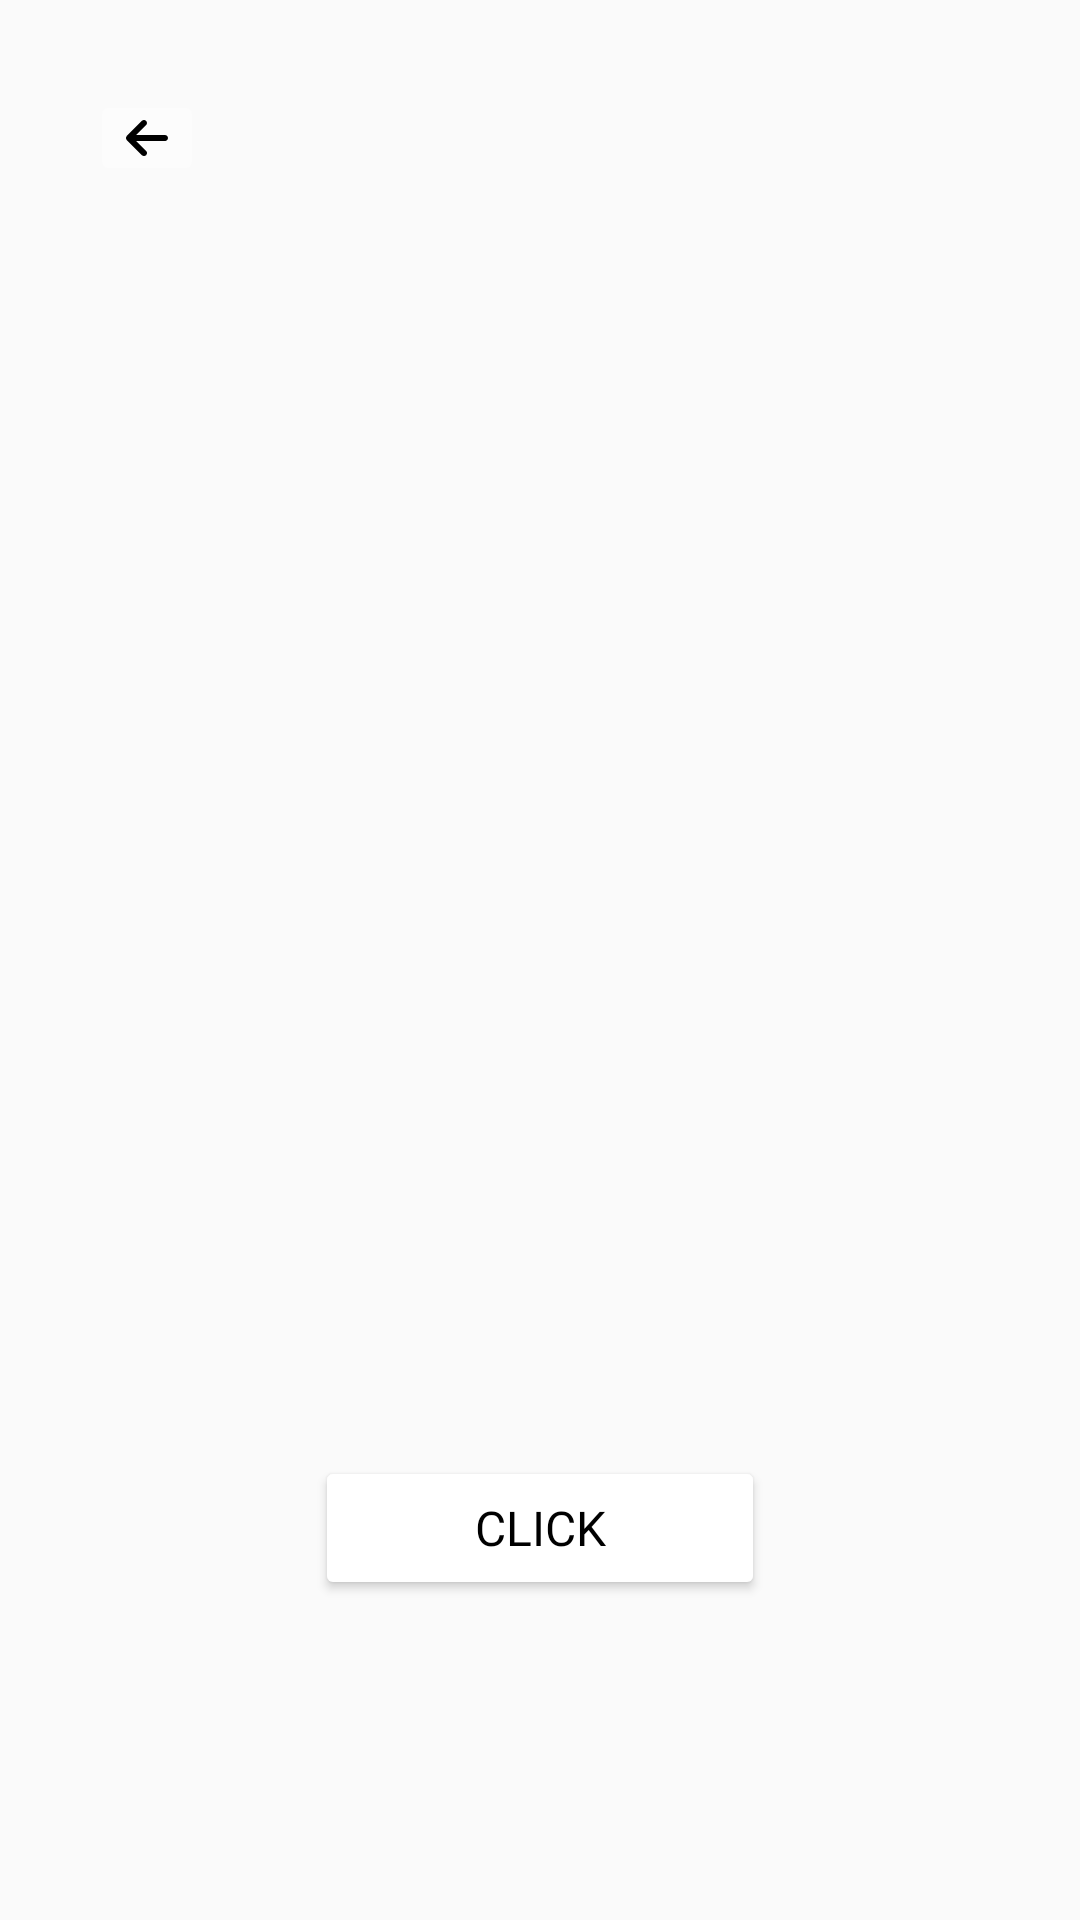

Icons on this 1080×1920 Android screen, each with the point to tap as (x=x, y=y):
backarrow: (x=147, y=138)
